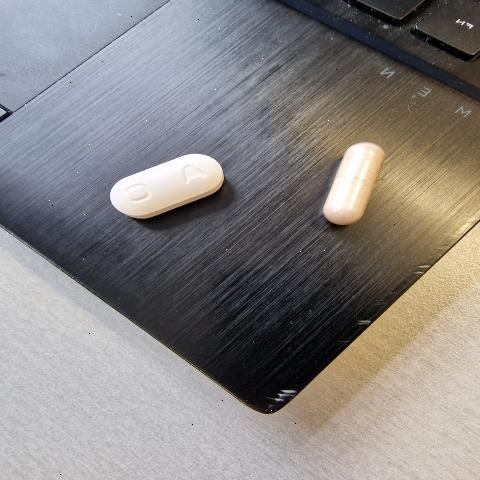Pill: (83, 125, 237, 240), (290, 126, 424, 249)
